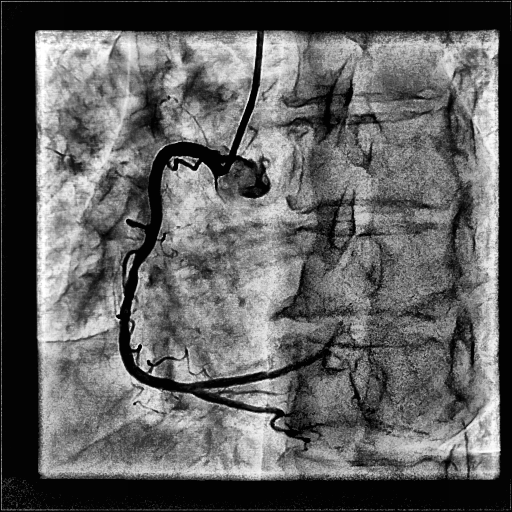pborca: (194, 337, 341, 389)
pda: (193, 389, 310, 452)
rca: (119, 142, 223, 393)
